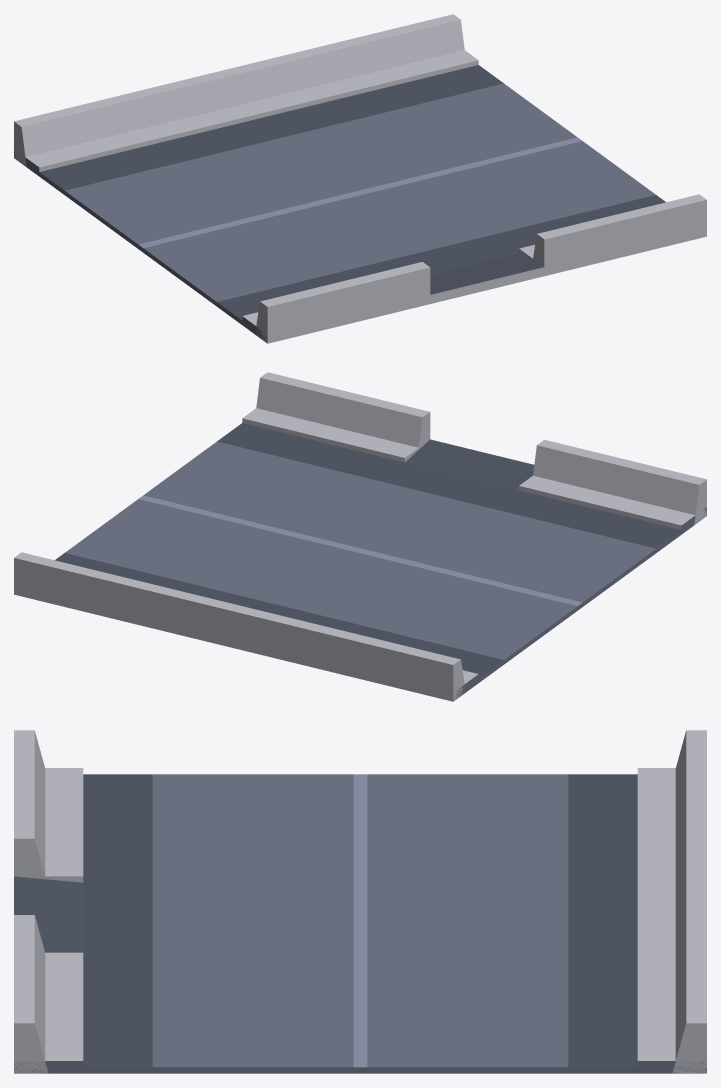
Rendered from road_drivewaySingleBarrier.glb.
The picture shows the model from 3 angles, top to bottom: view 1: azimuth 30°, elevation 25°; view 2: azimuth 150°, elevation 25°; view 3: azimuth 270°, elevation 25°; orthographic projection. The views are drawn at different scales.
Visible parts, largest first — view 1: road_drivewaySingleBarrier_55e81a, road_drivewaySingleBarrier_7fbf99, road_drivewaySingleBarrier_1a9c96, road_drivewaySingleBarrier_18c2a2, road_drivewaySingleBarrier_4066f0; view 2: road_drivewaySingleBarrier_55e81a, road_drivewaySingleBarrier_7fbf99, road_drivewaySingleBarrier_1a9c96, road_drivewaySingleBarrier_18c2a2, road_drivewaySingleBarrier_4066f0; view 3: road_drivewaySingleBarrier_55e81a, road_drivewaySingleBarrier_1a9c96, road_drivewaySingleBarrier_7fbf99, road_drivewaySingleBarrier_18c2a2, road_drivewaySingleBarrier_4066f0.
Boxes of the visible parts, x1=… form: road_drivewaySingleBarrier_55e81a: x1=14, y1=83, x2=655, y2=342; road_drivewaySingleBarrier_7fbf99: x1=14, y1=14, x2=706, y2=343; road_drivewaySingleBarrier_1a9c96: x1=39, y1=65, x2=665, y2=320; road_drivewaySingleBarrier_18c2a2: x1=26, y1=50, x2=706, y2=343; road_drivewaySingleBarrier_4066f0: x1=138, y1=137, x2=581, y2=247; road_drivewaySingleBarrier_55e81a: x1=65, y1=441, x2=706, y2=700; road_drivewaySingleBarrier_7fbf99: x1=14, y1=372, x2=706, y2=701; road_drivewaySingleBarrier_1a9c96: x1=55, y1=423, x2=681, y2=678; road_drivewaySingleBarrier_18c2a2: x1=14, y1=408, x2=694, y2=701; road_drivewaySingleBarrier_4066f0: x1=139, y1=495, x2=582, y2=605; road_drivewaySingleBarrier_55e81a: x1=14, y1=774, x2=706, y2=1073; road_drivewaySingleBarrier_1a9c96: x1=14, y1=774, x2=637, y2=1067; road_drivewaySingleBarrier_7fbf99: x1=14, y1=730, x2=706, y2=1073; road_drivewaySingleBarrier_18c2a2: x1=45, y1=768, x2=675, y2=1060; road_drivewaySingleBarrier_4066f0: x1=353, y1=774, x2=367, y2=1067.
Size of the model in its own units: 1 by 0.08 by 1.
